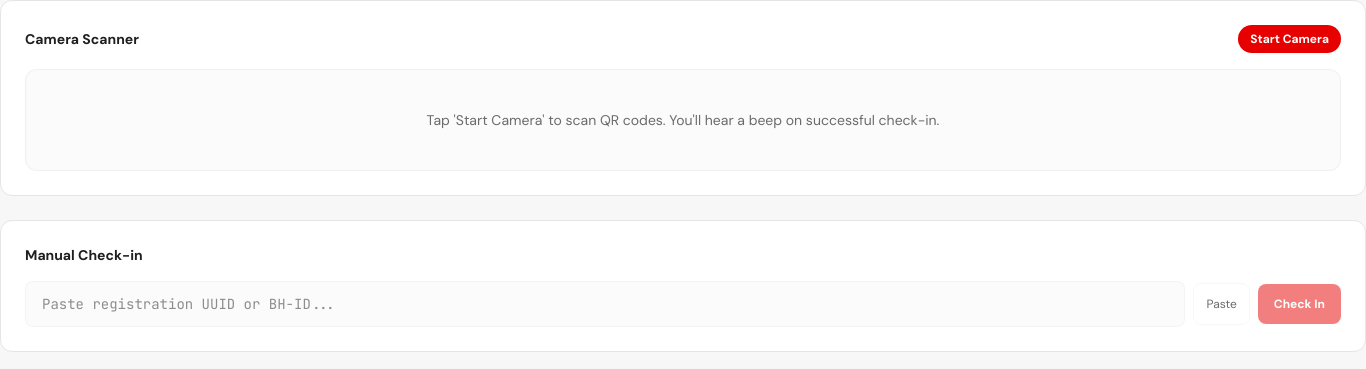
Test: QrScannerClient › camera error state › shows generic error message when getUserMedia fails for other reasons
Click the button "Start Camera".
click(1290, 39)  # box 1238,25 -> 1341,53
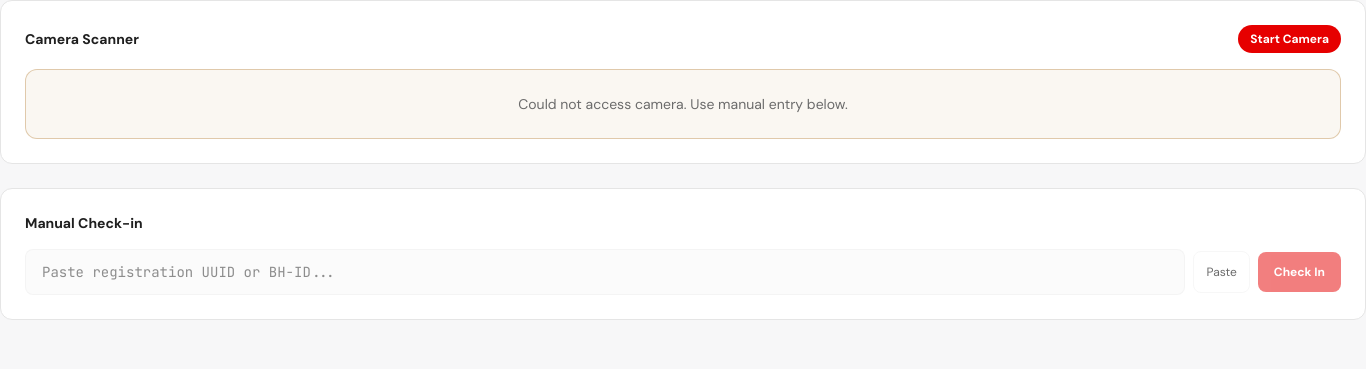
Result: the text "Could not access camera. Use manual entry below." is shown at 518,95 -> 848,113
